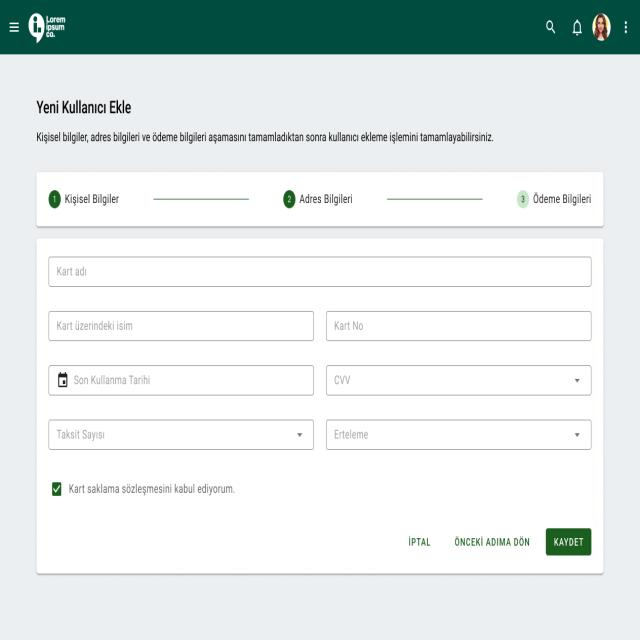QLabel: (36, 129, 494, 146), (36, 98, 133, 120), (454, 536, 530, 548), (553, 536, 584, 548), (406, 536, 431, 547)
VAppBar: (0, 1, 640, 54)
VAvatar: (591, 13, 612, 42)
VBtn: (450, 526, 537, 556), (545, 526, 593, 556), (398, 526, 440, 556)
VCard: (36, 236, 605, 576)
VCheckbox: (49, 480, 236, 498)
VCombobox: (47, 418, 315, 452), (326, 418, 592, 452), (325, 364, 593, 397)
VIcon: (572, 19, 582, 35), (546, 20, 556, 34), (9, 22, 20, 33), (624, 21, 627, 34)
VImg: (26, 12, 66, 43)
VInlineDatepicker: (47, 363, 315, 397)
VStepper: (35, 170, 605, 229)
VTextField: (48, 255, 592, 288), (47, 310, 315, 344), (325, 310, 592, 344)
